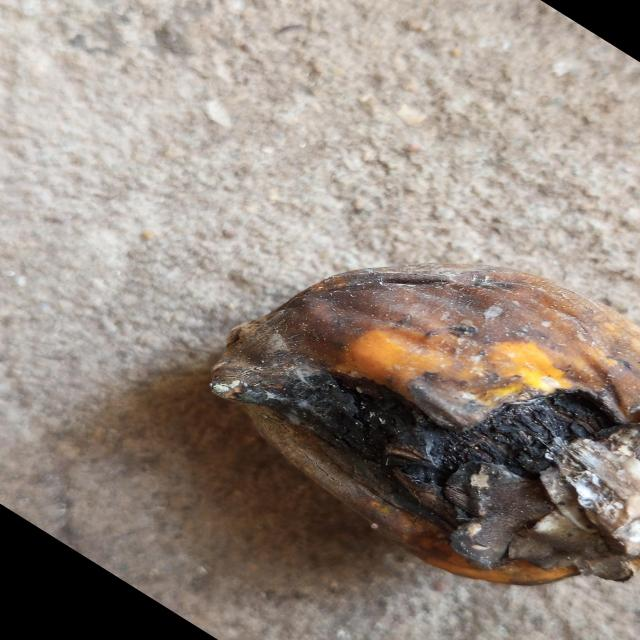damaged: (209, 268, 640, 588)
